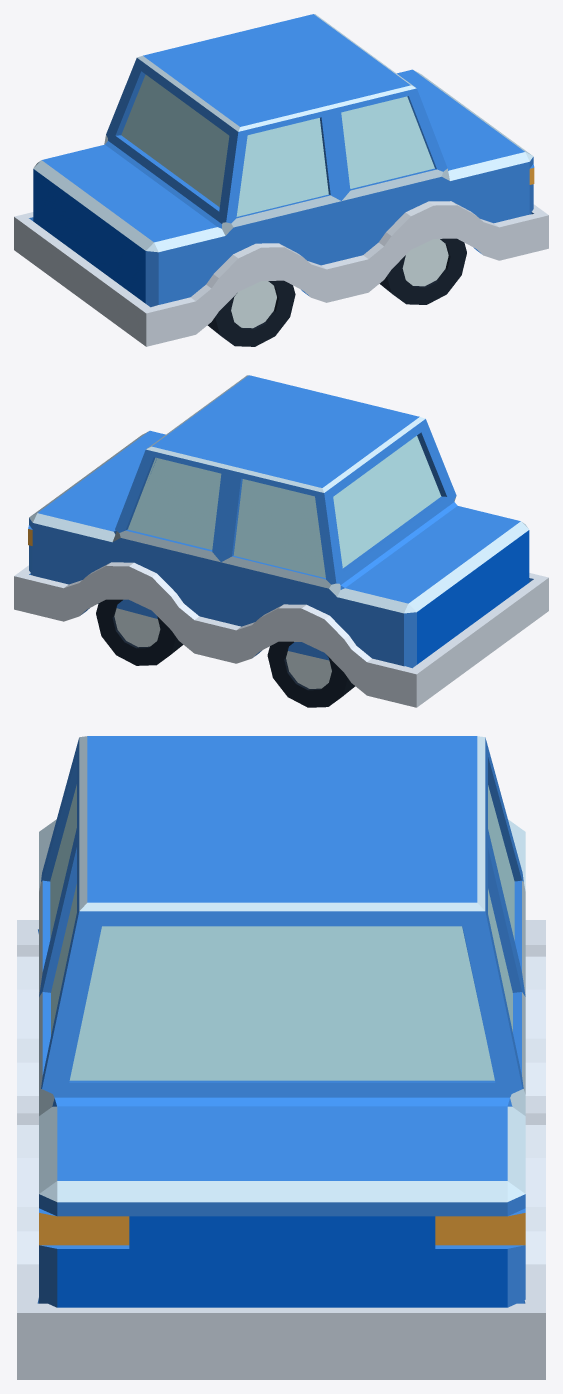
Rendered from oyuncakaraba.fbx.
The picture shows the model from 3 angles, top to bottom: view 1: azimuth 30°, elevation 25°; view 2: azimuth 150°, elevation 25°; view 3: azimuth 270°, elevation 25°; orthographic projection. The views are drawn at different scales.
Visible parts, largest first — view 1: Cylinder.007; view 2: Cylinder.007; view 3: Cylinder.007.
Part boxes in pixels (<box>): Cylinder.007: <box>14,14,548,346</box>; Cylinder.007: <box>14,375,548,707</box>; Cylinder.007: <box>17,736,545,1379</box>.
Bounding box in the file's own units: 135 × 77.06 × 67.36.
